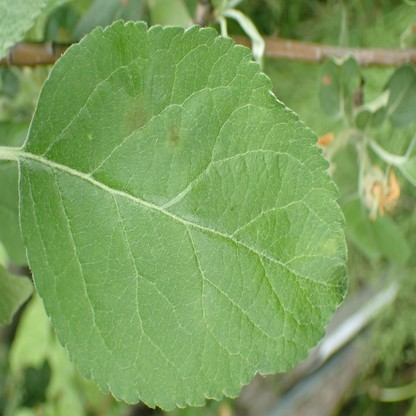scab: (122, 102, 150, 136), (317, 238, 337, 258), (170, 121, 182, 148)
